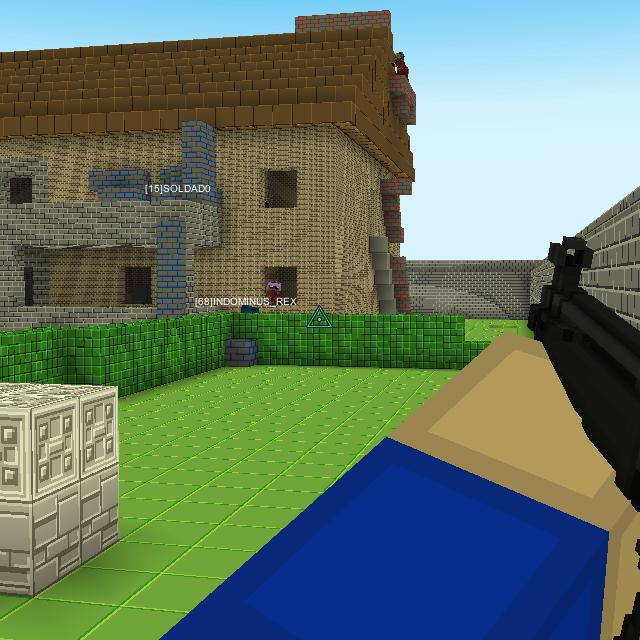enemy: (265, 279, 280, 306), (265, 197, 269, 207)
